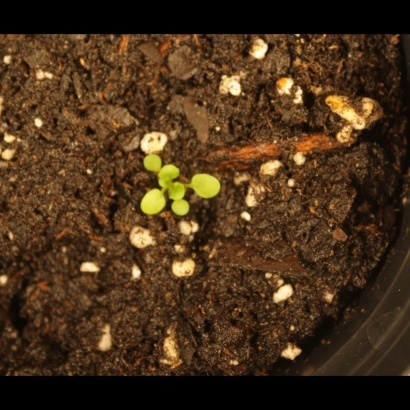leaf: (131, 184, 171, 219), (188, 172, 223, 200), (169, 199, 195, 222), (141, 151, 166, 174), (166, 179, 189, 202), (158, 165, 181, 188)
